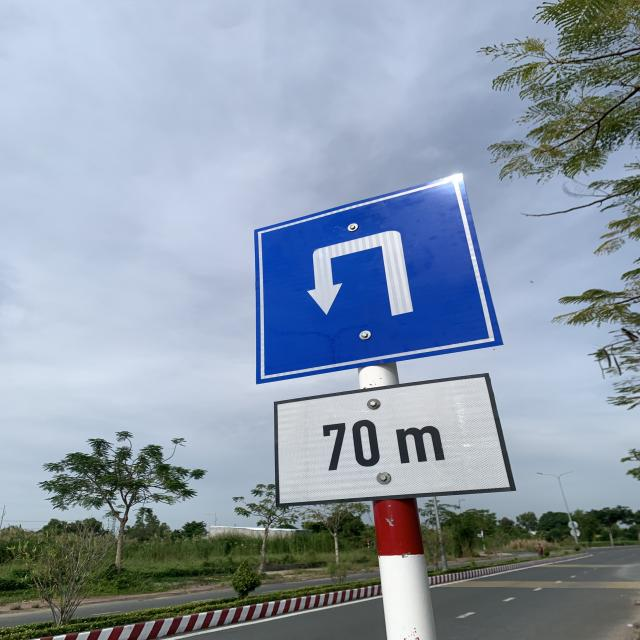Den_Giao_Thong: (257, 174, 503, 381)
